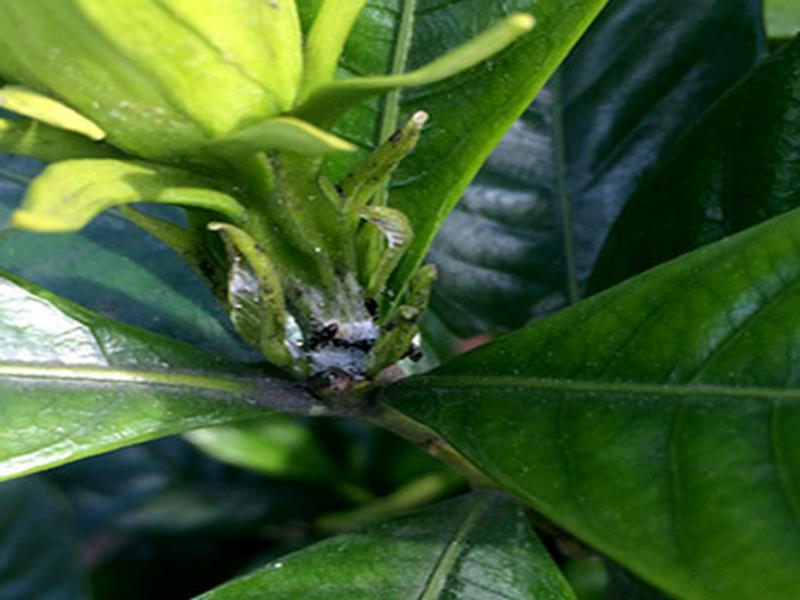Mealy_bug: (188, 202, 448, 410)
